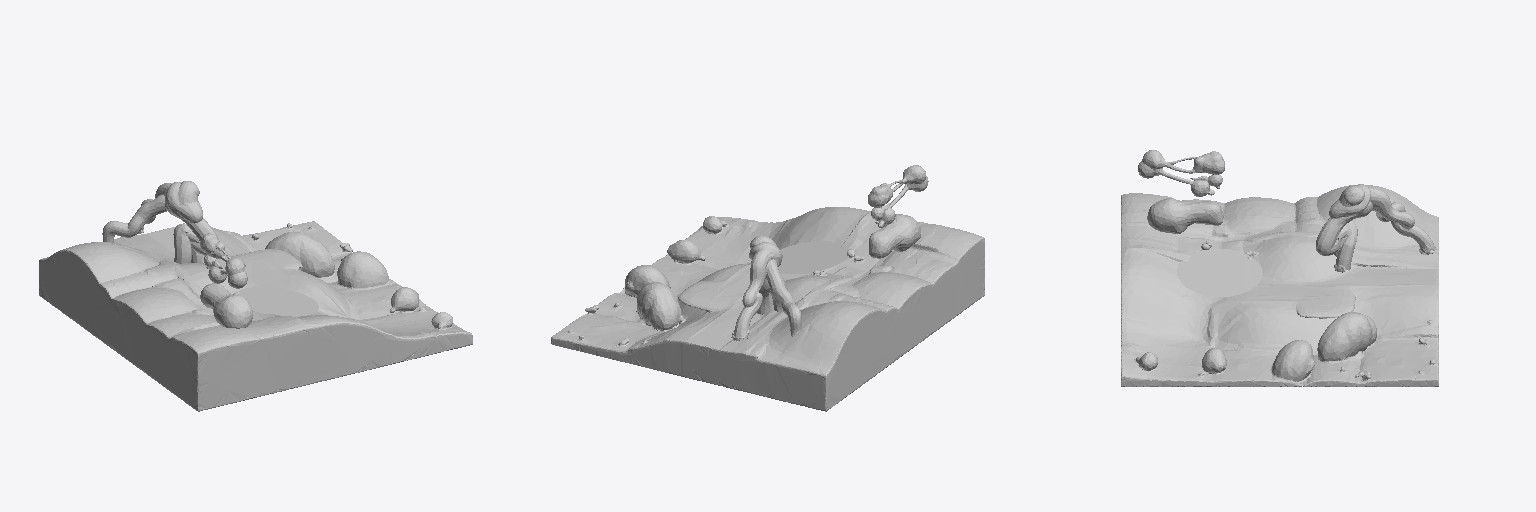
File: arbolesDimension35ccc.obj
3 renders of one model, left to right at view 1: azimuth 30°, elevation 25°; view 2: azimuth 150°, elevation 25°; view 3: azimuth 270°, elevation 25°, orthographic.
Visible parts, largest first — view 1: tripo_node_edef88ec_a94a_47cb_a9b3_[number redacted]f0b7, planta, tripo_node_a7ef379c_a785_4517_b46a_3b8839a14a15, flores, Circle001; view 2: tripo_node_edef88ec_a94a_47cb_a9b3_[number redacted]f0b7, planta, tripo_node_a7ef379c_a785_4517_b46a_3b8839a14a15, flores, Circle001; view 3: tripo_node_edef88ec_a94a_47cb_a9b3_[number redacted]f0b7, planta, tripo_node_a7ef379c_a785_4517_b46a_3b8839a14a15, flores, Circle001.
Part boxes in pixels (x1,y1,x2,y2): tripo_node_edef88ec_a94a_47cb_a9b3_[number redacted]f0b7: (39,221,472,411); planta: (250,231,452,329); tripo_node_a7ef379c_a785_4517_b46a_3b8839a14a15: (102,181,218,263); flores: (200,233,252,328); Circle001: (235,287,318,316); tripo_node_edef88ec_a94a_47cb_a9b3_[number redacted]f0b7: (551,207,984,411); planta: (613,216,728,346); tripo_node_a7ef379c_a785_4517_b46a_3b8839a14a15: (731,235,801,340); flores: (868,165,928,258); Circle001: (778,241,849,274); tripo_node_edef88ec_a94a_47cb_a9b3_[number redacted]f0b7: (1121,185,1438,386); planta: (1136,312,1430,382); tripo_node_a7ef379c_a785_4517_b46a_3b8839a14a15: (1316,184,1435,272); flores: (1138,150,1224,233); Circle001: (1177,249,1262,296).
Bounding box in the file's own units: 0.9506 × 0.4248 × 0.9508.